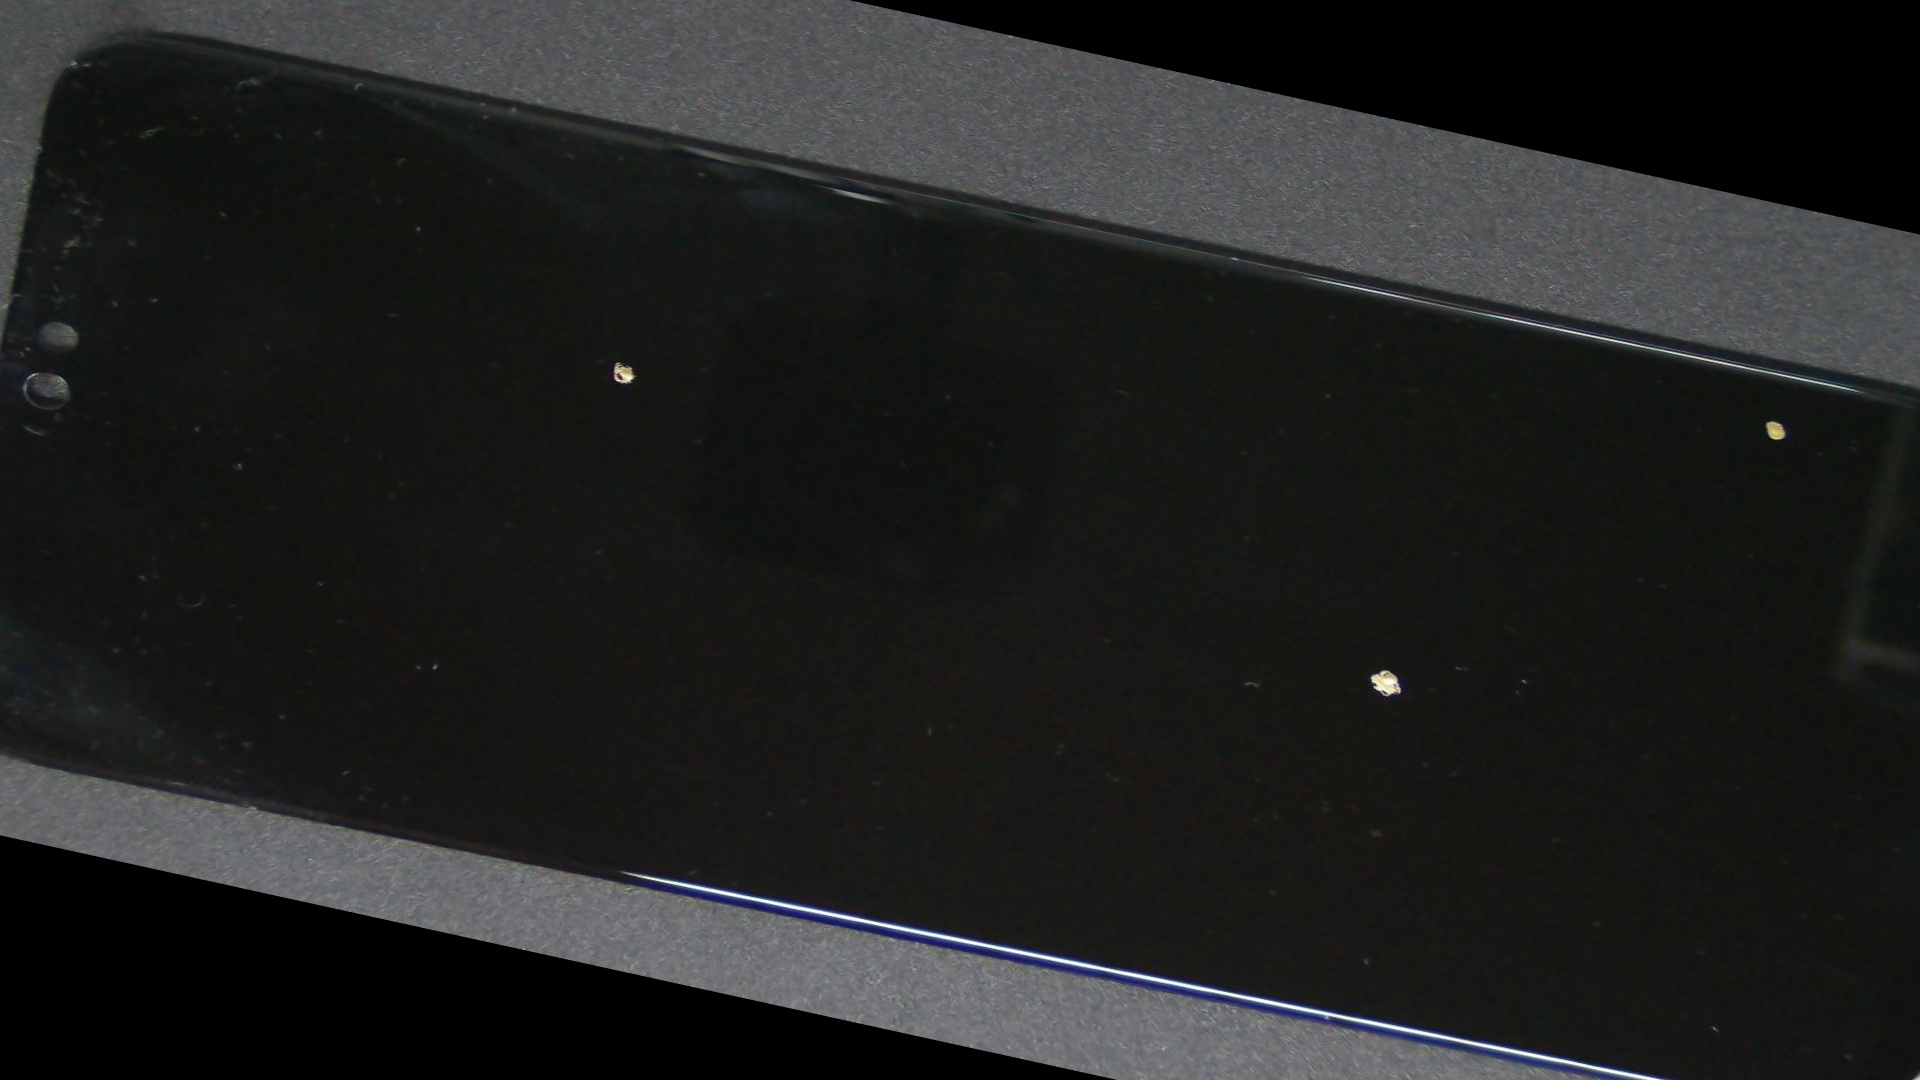oil: (562, 237, 1920, 1080), (824, 113, 1920, 607), (208, 83, 1030, 638)
